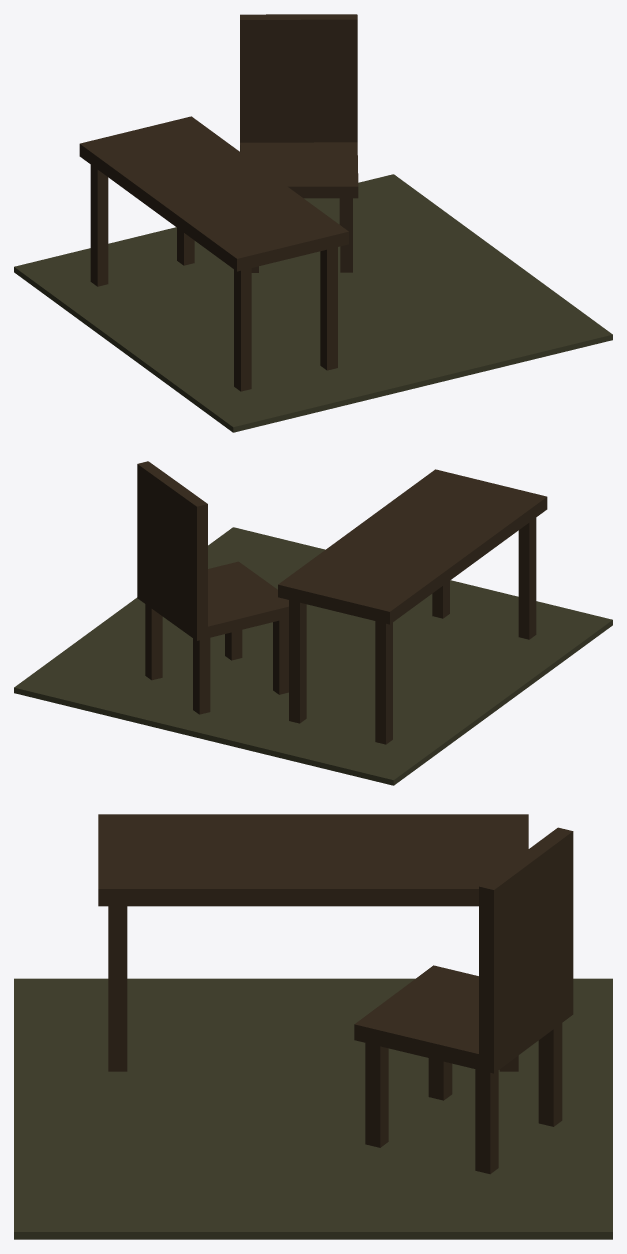
File: Escenario_0.fbx
3 views of the same model, one above another, from view 1: azimuth 30°, elevation 25°; view 2: azimuth 150°, elevation 25°; view 3: azimuth 270°, elevation 25° (orthographic). The views are drawn at different scales.
Visible parts, largest first — view 1: Suelo, Mesa, Silla; view 2: Suelo, Mesa, Silla; view 3: Suelo, Mesa, Silla.
Boxes of the visible parts, x1,y1,x2,y2 form: Suelo: [14, 174, 612, 432]; Mesa: [79, 116, 348, 391]; Silla: [240, 14, 358, 272]; Suelo: [14, 527, 612, 785]; Mesa: [278, 469, 547, 744]; Silla: [137, 461, 288, 714]; Suelo: [14, 978, 612, 1239]; Mesa: [98, 814, 528, 1071]; Silla: [354, 827, 573, 1174].
Size of the model in its own units: 231 by 126 by 231.
